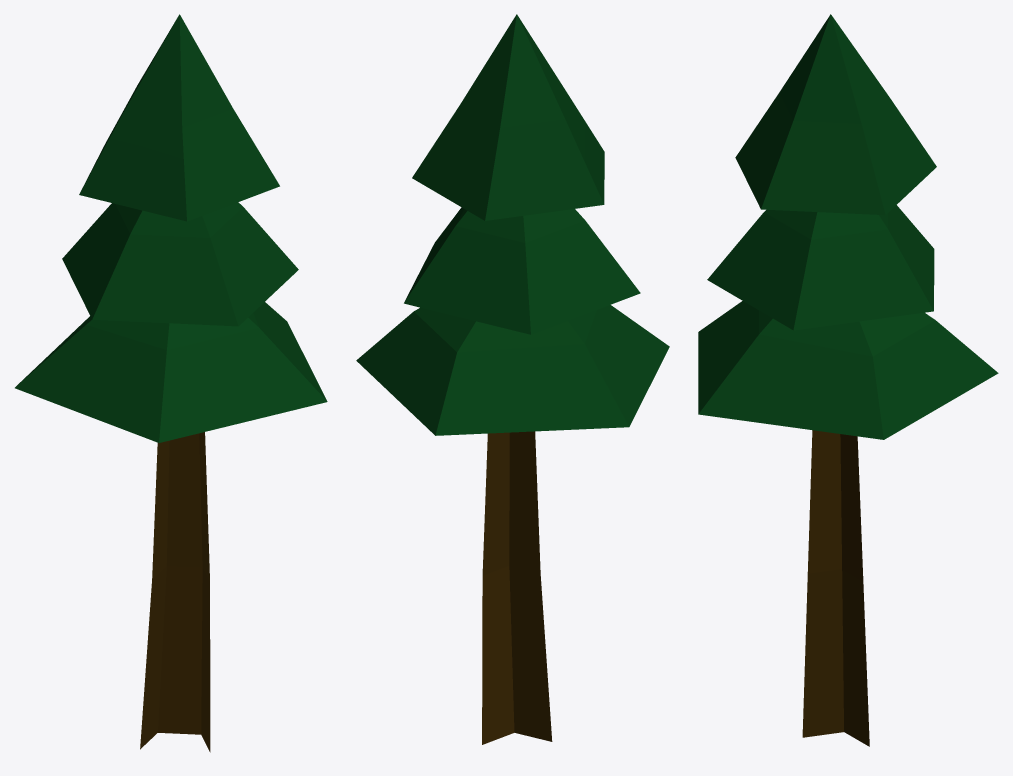
The model's file is confier.fbx.
The picture shows the model from 3 angles, left to right: view 1: azimuth 30°, elevation 25°; view 2: azimuth 150°, elevation 25°; view 3: azimuth 270°, elevation 25°; orthographic projection.
Visible parts, largest first — view 1: confier; view 2: confier; view 3: confier.
Part boxes in pixels (box(x1,y1,x2,y2)): confier: box(15, 14, 327, 752); confier: box(356, 14, 669, 744); confier: box(698, 14, 998, 746).
Size of the model in its own units: 39 by 100 by 37.09.
